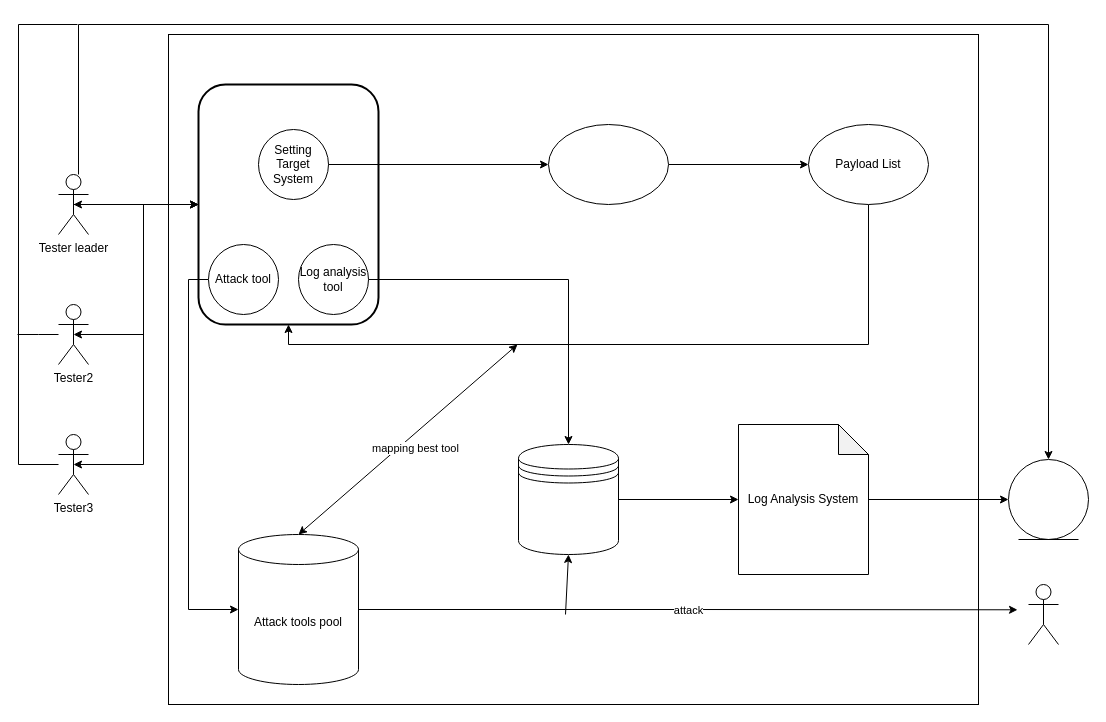
This 1106x722 diagram has some shape labels left out. The box of each missing label's shape, as (x1, y1, x2, y2) in pixels:
Analyzed Logs: (1008, 458, 1088, 540)
Log storage: (518, 444, 618, 554)
Payload System: (548, 124, 668, 204)
Target System: (1028, 584, 1058, 644)
